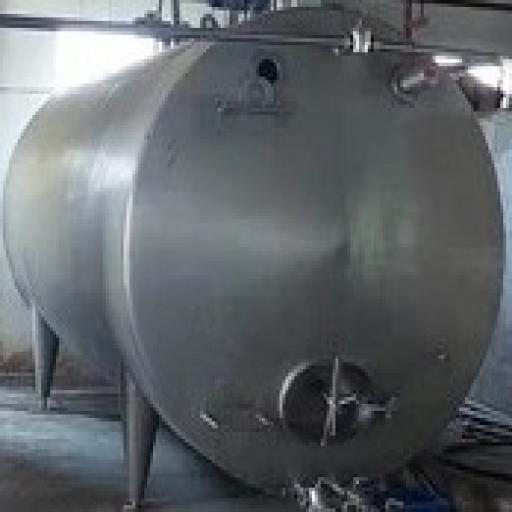silo: (4, 4, 505, 499)
